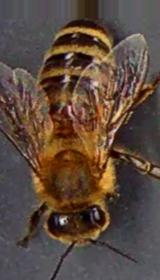varroa_mite: (60, 103, 86, 118)
